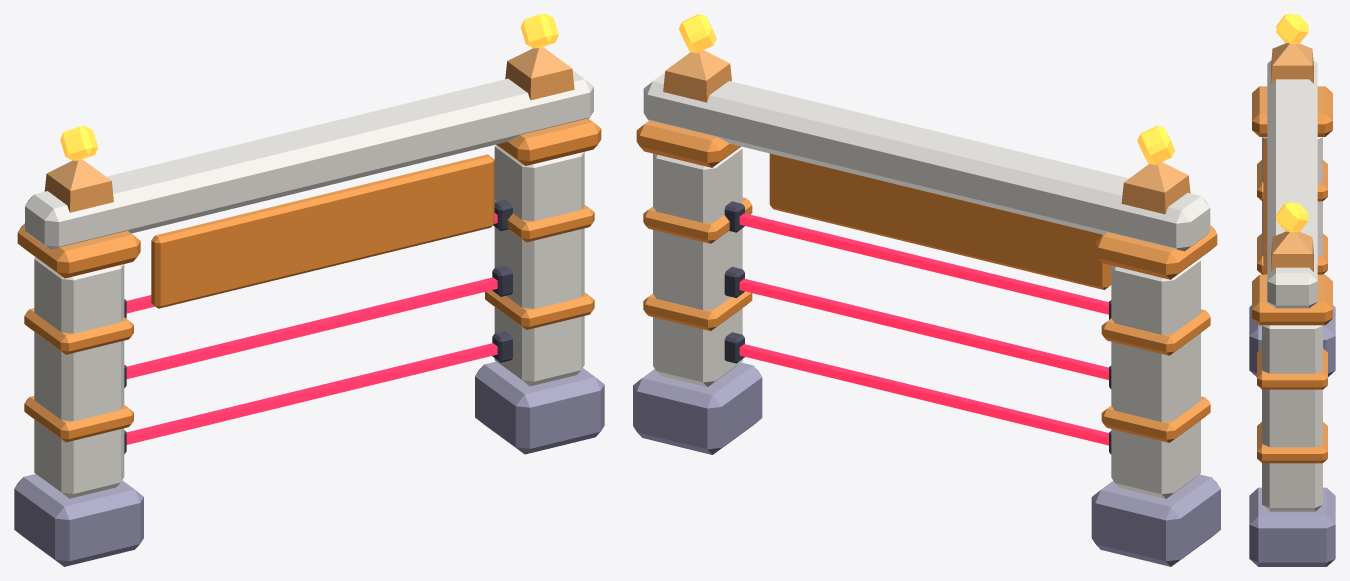
Rendered from Gate_1.glb.
The picture shows the model from 3 angles, left to right: view 1: azimuth 30°, elevation 25°; view 2: azimuth 150°, elevation 25°; view 3: azimuth 270°, elevation 25°; orthographic projection. The views are drawn at different scales.
Parts seen in each view (by area): view 1: Gate_1, Gate_1_Glow_laser, Gate_1_Glow_acc1; view 2: Gate_1, Gate_1_Glow_laser, Gate_1_Glow_acc1; view 3: Gate_1, Gate_1_Glow_acc1.
Boxes of the visible parts, x1,y1,x2,y2 form: Gate_1: (14,47,604,566); Gate_1_Glow_laser: (126,213,497,444); Gate_1_Glow_acc1: (60,14,558,160); Gate_1: (633,50,1220,566); Gate_1_Glow_laser: (739,213,1108,445); Gate_1_Glow_acc1: (678,14,1175,164); Gate_1: (1249,43,1335,566); Gate_1_Glow_acc1: (1276,14,1308,232).
Bounding box in the file's own units: 21 × 15.25 × 3.4.
3 materials, 1 textured.
